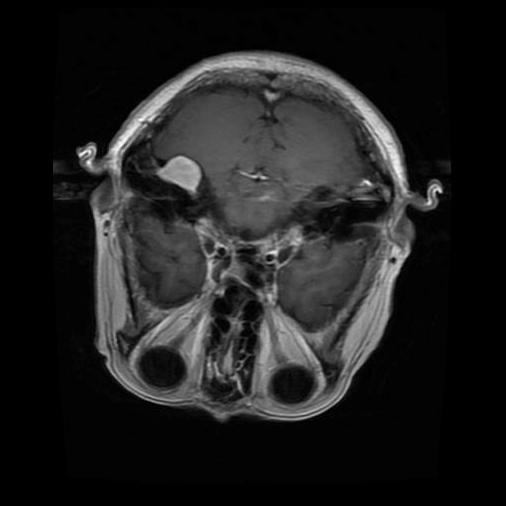Tumour-Meningioma: (154, 131, 224, 216)
